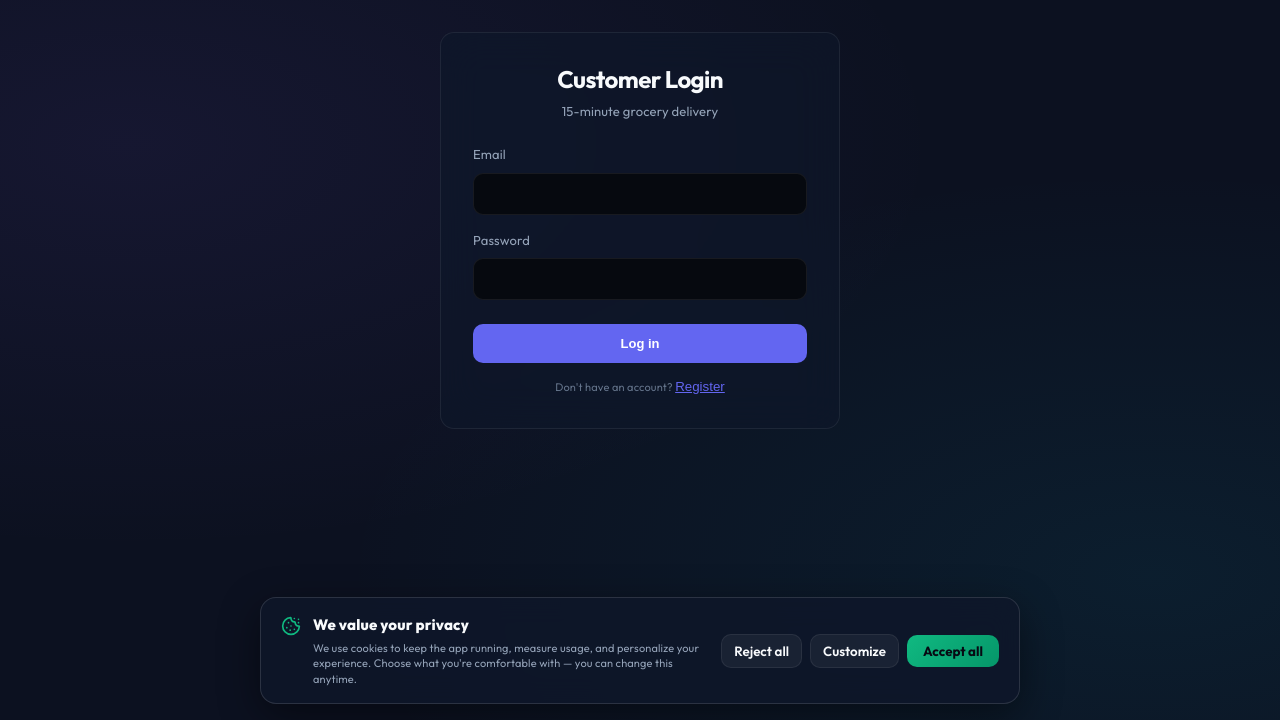
Test case: Consent Management — Revisit Consent button › Revisit Consent button opens the preferences dialog
The image size is (1280, 720).
Click the button "Accept all" at (953, 651), box [907,635,999,667]
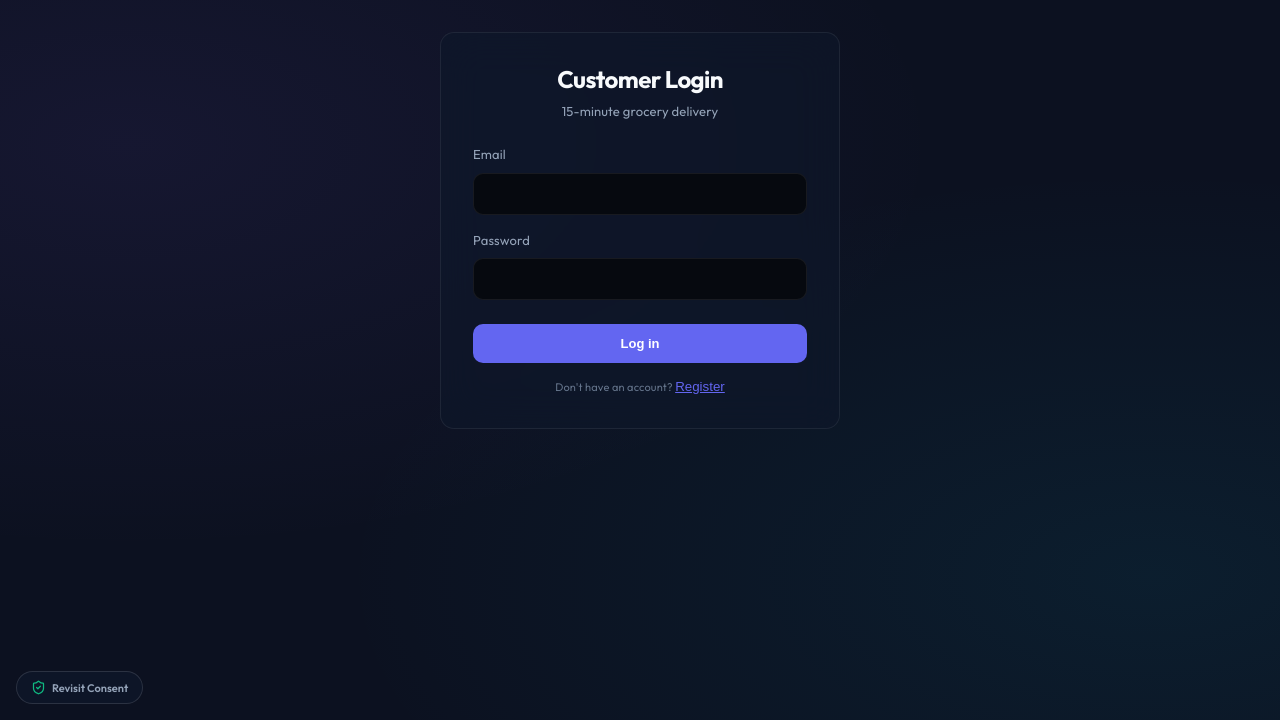
Click the button with class "consent-revisit-btn" at (80, 688), box [16,671,143,704]
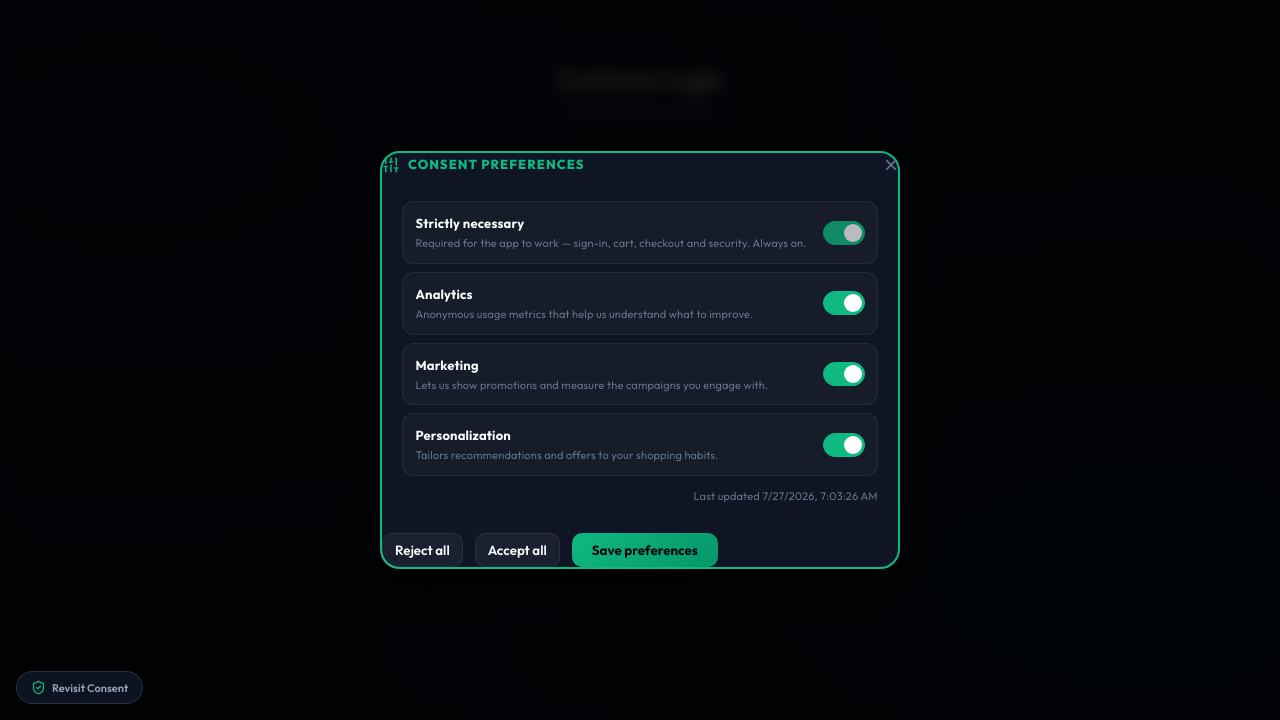
Expected: the heading "Consent Preferences" is shown, [382,156,584,174]
